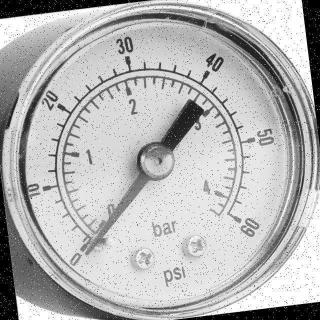gauge: (0, 0, 320, 320), (215, 202, 263, 240), (59, 232, 106, 269), (138, 141, 176, 180), (78, 242, 98, 264)
